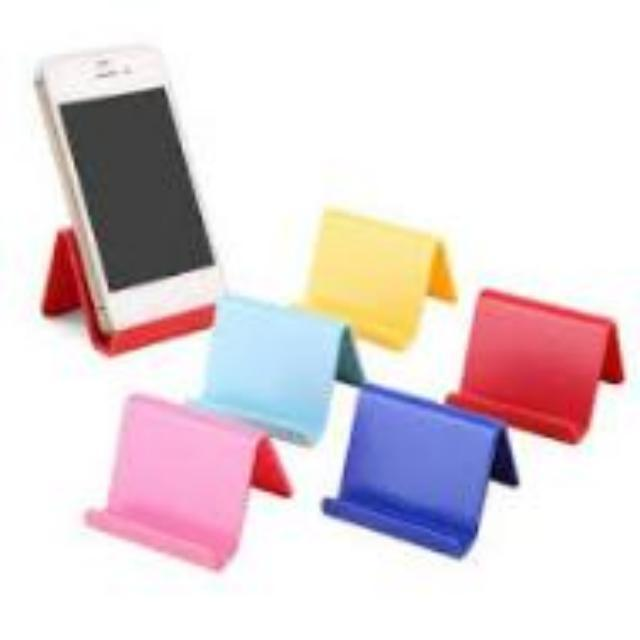phone: (37, 41, 233, 358)
